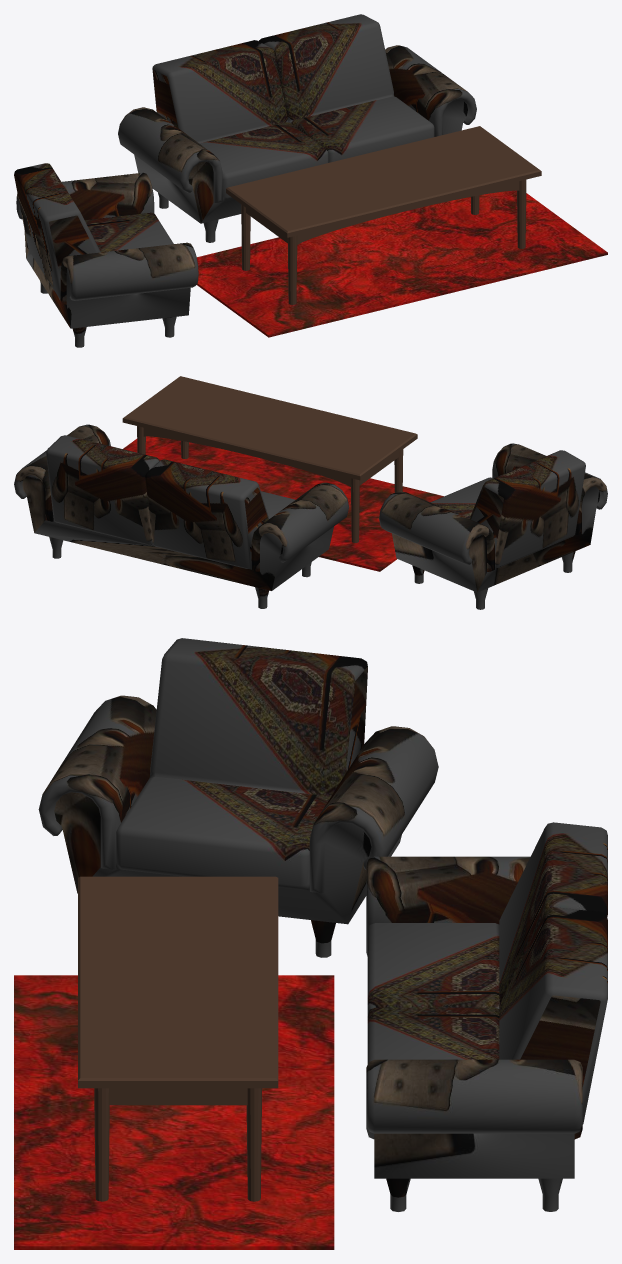
File: Sofa_Group.glb
3 renders of one model, top to bottom at view 1: azimuth 30°, elevation 25°; view 2: azimuth 150°, elevation 25°; view 3: azimuth 270°, elevation 25°, orthographic. The views are drawn at different scales.
Parts seen in each view (by area): view 1: Sofa_Cube, Sofa_Cube_002, Sofa_Cube_001; view 2: Sofa_Cube, Sofa_Cube_001, Sofa_Cube_002; view 3: Sofa_Cube, Sofa_Cube_002, Sofa_Cube_001.
Part boxes in pixels (bbox=[...]): Sofa_Cube: bbox=[14, 14, 476, 347]; Sofa_Cube_002: bbox=[197, 190, 607, 337]; Sofa_Cube_001: bbox=[226, 126, 541, 304]; Sofa_Cube: bbox=[14, 424, 607, 609]; Sofa_Cube_001: bbox=[122, 376, 417, 542]; Sofa_Cube_002: bbox=[123, 436, 443, 571]; Sofa_Cube: bbox=[38, 638, 607, 1211]; Sofa_Cube_002: bbox=[14, 975, 334, 1249]; Sofa_Cube_001: bbox=[78, 876, 278, 1201].
Bounding box in the file's own units: 4.2 × 1.04 × 2.58.
Materials: 3 (2 with a texture image).
